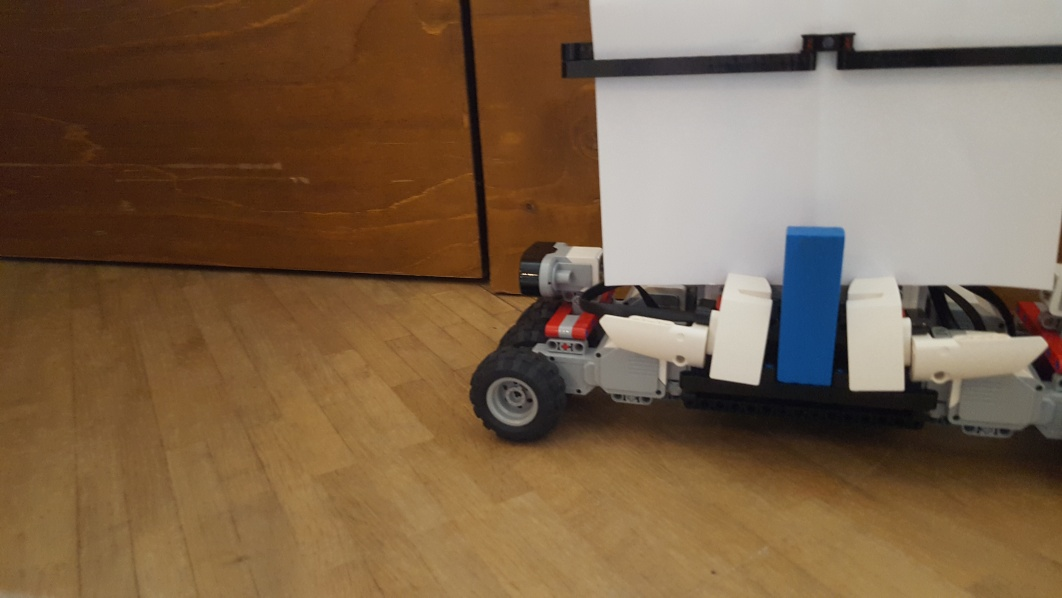car: (468, 1, 1062, 443)
